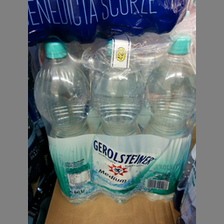water: (33, 44, 97, 205), (142, 34, 196, 201), (92, 39, 146, 205)
